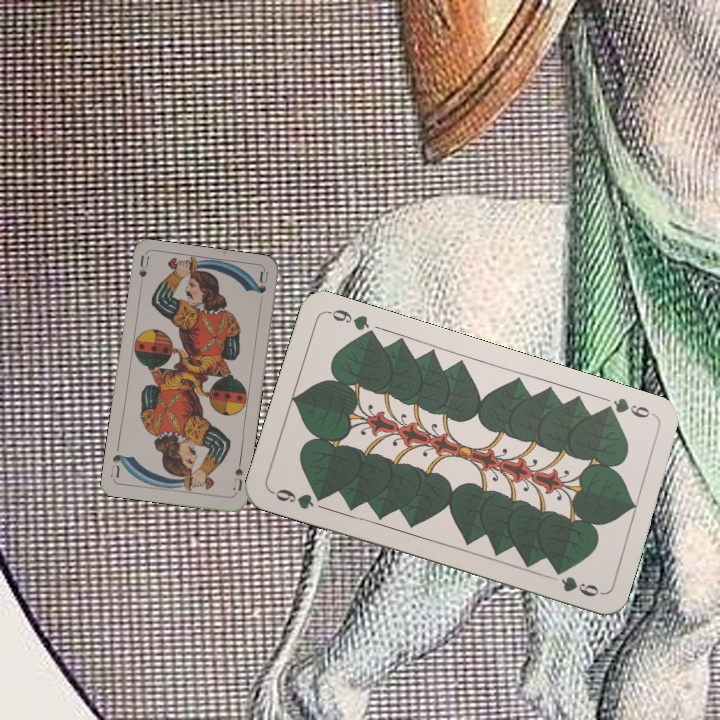G9: (267, 485, 328, 512), (598, 394, 659, 421)
SU: (135, 253, 151, 294), (229, 456, 246, 493)
